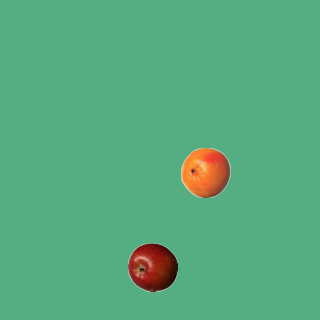Apple Braeburn: (127, 242, 177, 292)
Grapefruit Pink: (180, 147, 230, 197)
